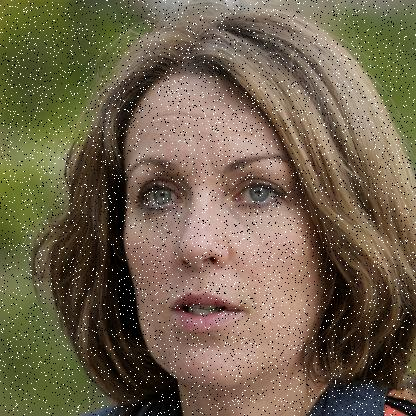eyeee: (223, 176, 295, 206), (130, 176, 189, 209)
mouthhz: (168, 290, 242, 334)
nosebb: (176, 192, 231, 270)
